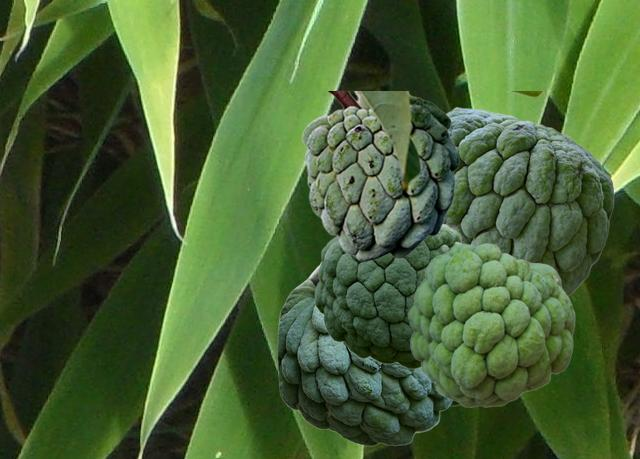atis: (301, 91, 542, 261), (277, 264, 453, 445), (445, 107, 613, 296), (407, 243, 574, 406), (314, 224, 462, 368)
